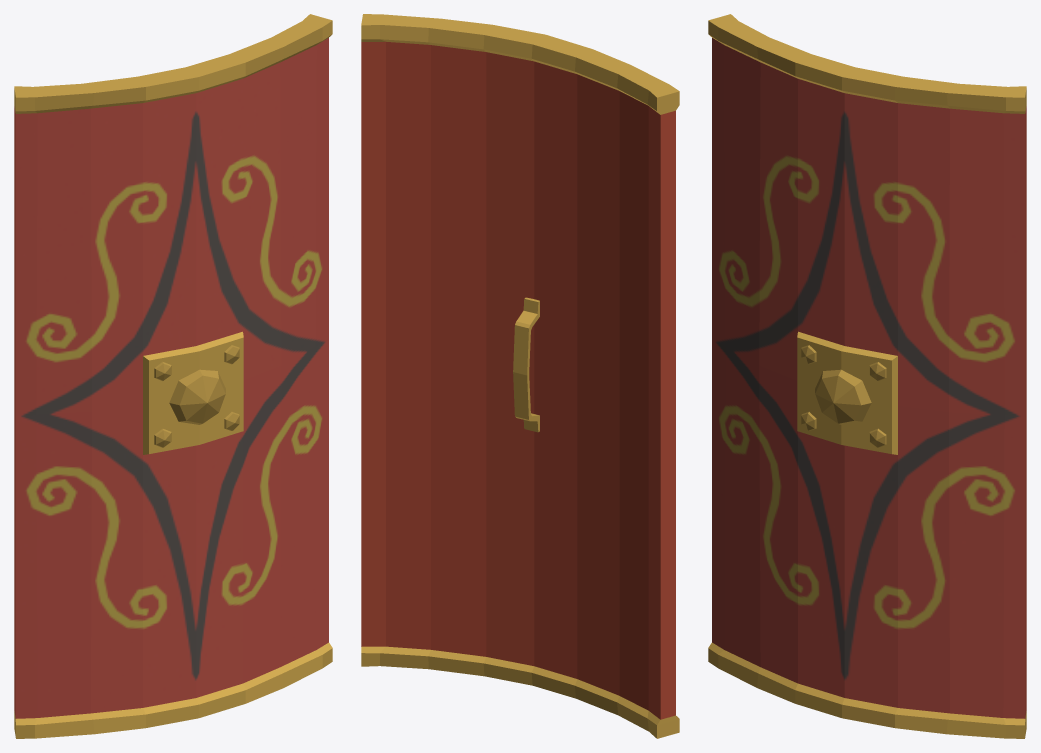
File: SM_pwe_rome_shield_05a.fbx
The picture shows the model from 3 angles, left to right: view 1: azimuth 30°, elevation 25°; view 2: azimuth 150°, elevation 25°; view 3: azimuth 330°, elevation 25°; orthographic projection.
Visible parts, largest first — view 1: SM_pwe_rome_shield_05a; view 2: SM_pwe_rome_shield_05a; view 3: SM_pwe_rome_shield_05a.
Boxes of the visible parts, left/top/right/bottom form: SM_pwe_rome_shield_05a: left=14, top=14, right=332, bottom=738; SM_pwe_rome_shield_05a: left=361, top=14, right=679, bottom=738; SM_pwe_rome_shield_05a: left=708, top=14, right=1026, bottom=738.
Bounding box in the file's own units: 60.8 × 118 × 15.07.
